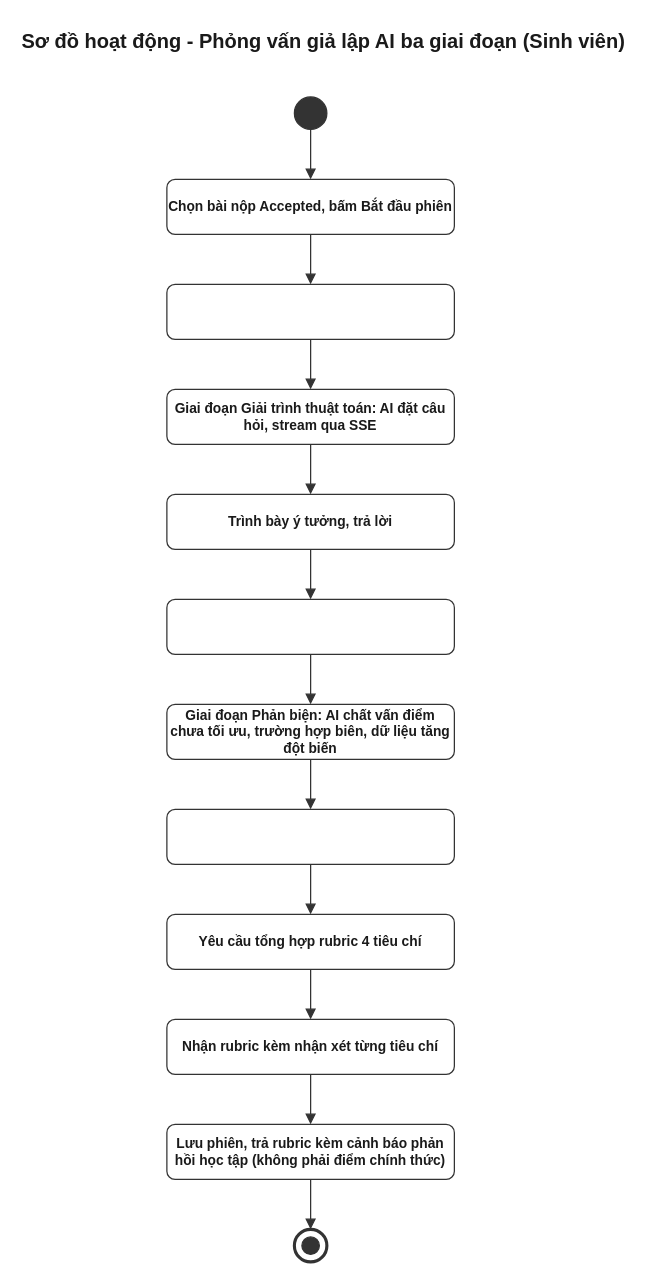
Image size: 646x1285. Some labels were removed from this diagram. The centre of each missing label's shape, as x and y in pixels:
Bấm Kết phiên và nhận xét: [310,836]
Gửi trả lời, chuyển giai đoạn Phản biện: [310,626]
Mở phiên phỏng vấn (submissionId), khởi tạo ChatMemory: [310,311]
